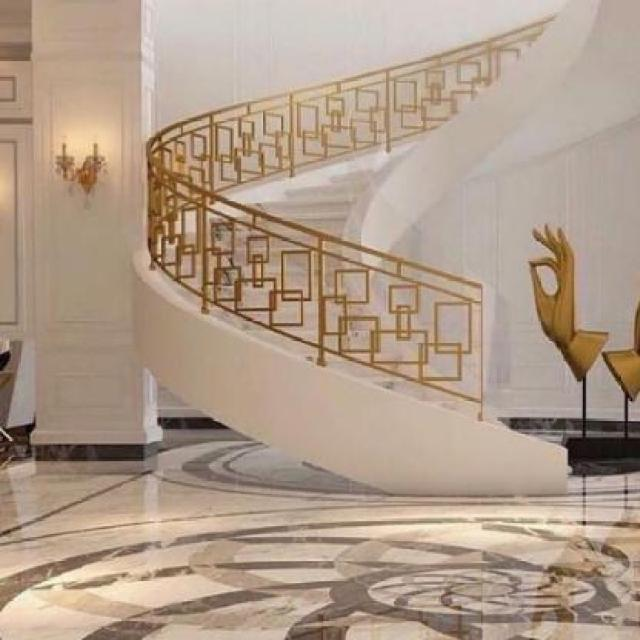stair: (137, 89, 554, 498)
